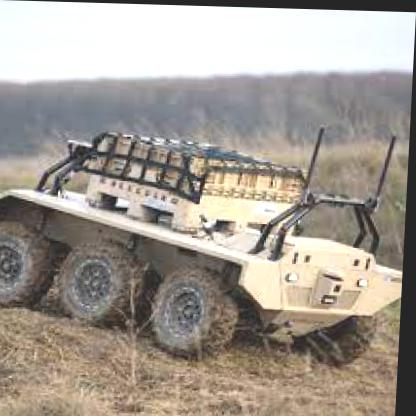UGV: (0, 126, 409, 365)
